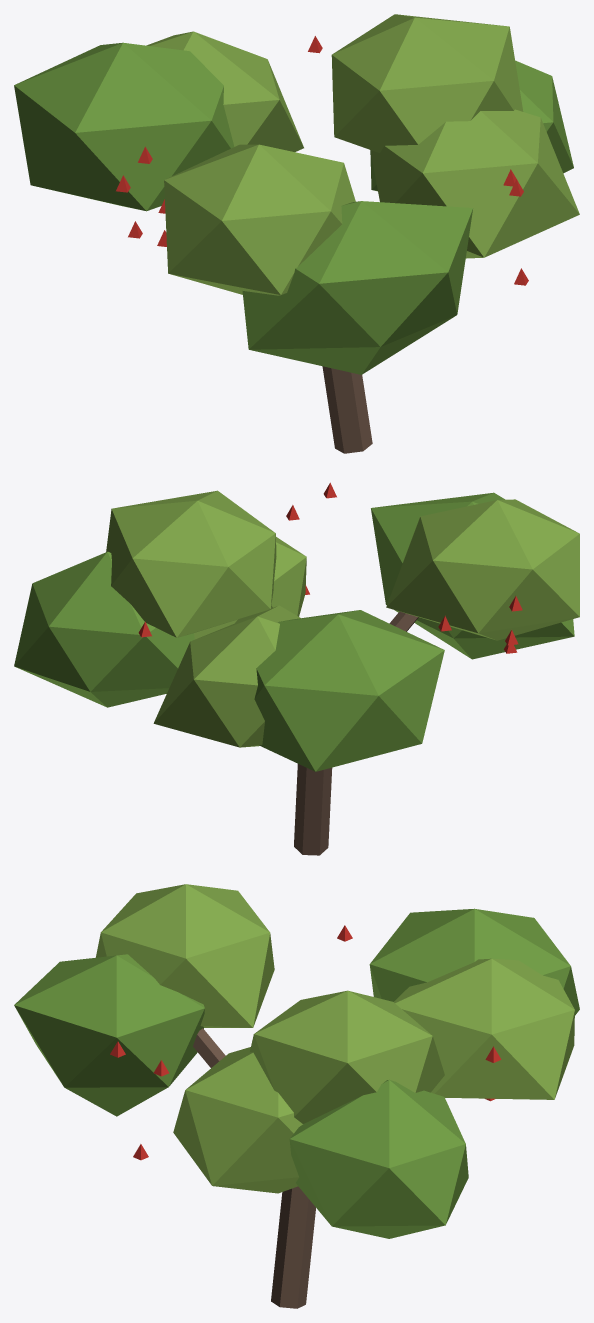
The model's file is appeltrad_1.glb.
The picture shows the model from 3 angles, top to bottom: view 1: azimuth 30°, elevation 25°; view 2: azimuth 150°, elevation 25°; view 3: azimuth 270°, elevation 25°; orthographic projection. The views are drawn at different scales.
Parts seen in each view (by area): view 1: appeltrad_1; view 2: appeltrad_1; view 3: appeltrad_1.
Part boxes in pixels (x1,y1,x2,y2): appeltrad_1: (14,14,579,453); appeltrad_1: (14,482,579,855); appeltrad_1: (14,884,579,1308).
Bounding box in the file's own units: 5.09 × 3.79 × 5.45.
